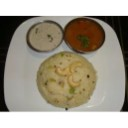venpongal: (41, 55, 95, 109)
